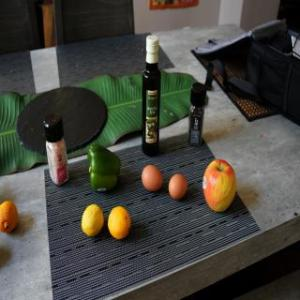bell_pepper: (186, 84, 208, 146)
egg: (107, 203, 133, 243), (136, 165, 164, 195), (82, 202, 104, 236), (164, 173, 188, 204), (1, 198, 20, 231)
